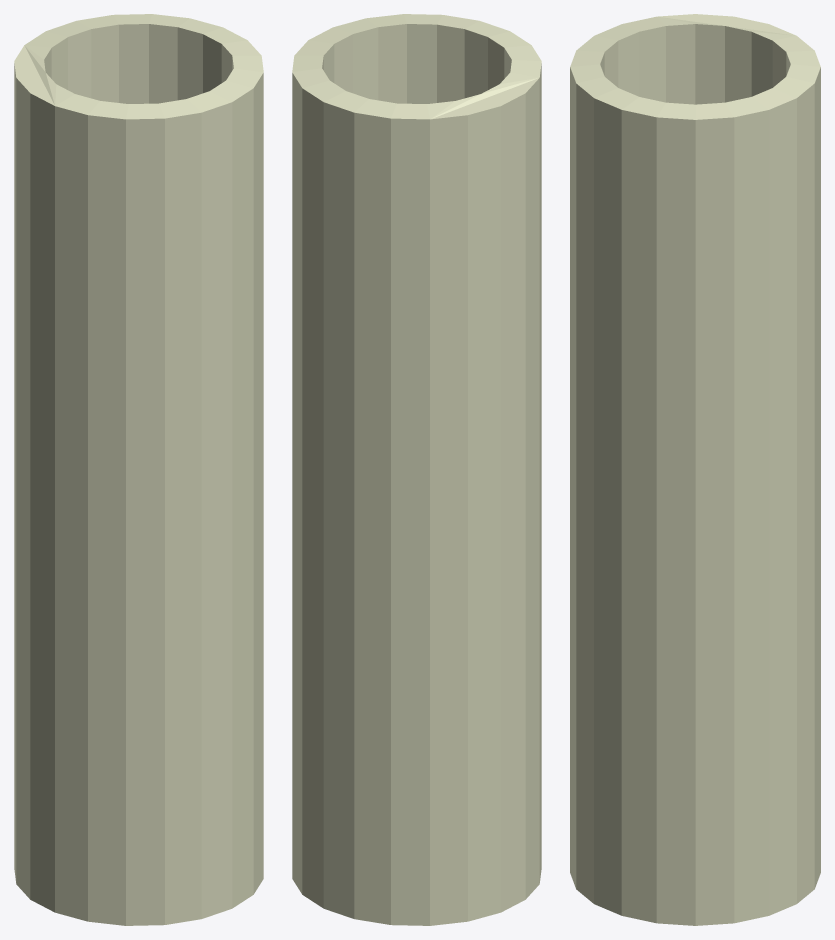
File: Horror_Slim_Tall_Candle.fbx
The picture shows the model from 3 angles, left to right: view 1: azimuth 30°, elevation 25°; view 2: azimuth 150°, elevation 25°; view 3: azimuth 270°, elevation 25°; orthographic projection.
Visible parts, largest first — view 1: pCylinder50; view 2: pCylinder50; view 3: pCylinder50.
Boxes of the visible parts, x1=… form: pCylinder50: x1=14, y1=14, x2=263, y2=925; pCylinder50: x1=292, y1=14, x2=541, y2=925; pCylinder50: x1=570, y1=14, x2=820, y2=925.
Bounding box in the file's own units: 8.46 × 30.11 × 8.46.
